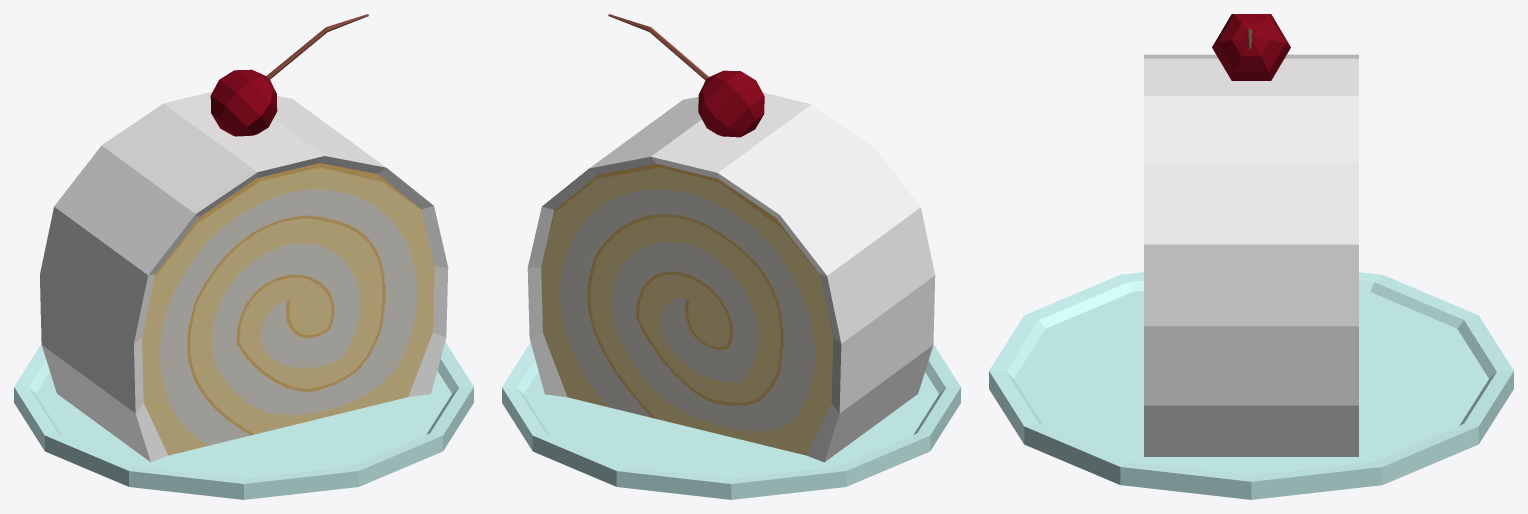
The model's file is Rolada.fbx.
3 views of the same model, side by side, from view 1: azimuth 30°, elevation 25°; view 2: azimuth 150°, elevation 25°; view 3: azimuth 270°, elevation 25° (orthographic). The views are drawn at different scales.
Parts seen in each view (by area): view 1: Talerz; view 2: Talerz; view 3: Talerz.
Part boxes in pixels (left/top/right/bottom): Talerz: left=14, top=14, right=473, bottom=499; Talerz: left=502, top=14, right=960, bottom=499; Talerz: left=989, top=14, right=1513, bottom=499.
Bounding box in the file's own units: 249 × 214 × 249.
